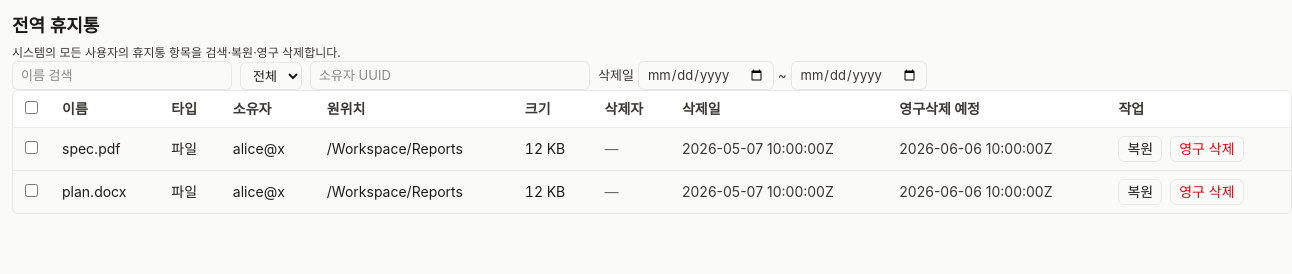
/admin/trash/all › 체크박스 다중 선택 시 BulkActionBar 노출
#  행 1개 선택
What coordinates should you click on to do the following:
click the checkbox named "spec.pdf 선택"
I would click on:
 (32, 148)
Its box is [25, 141, 38, 154].
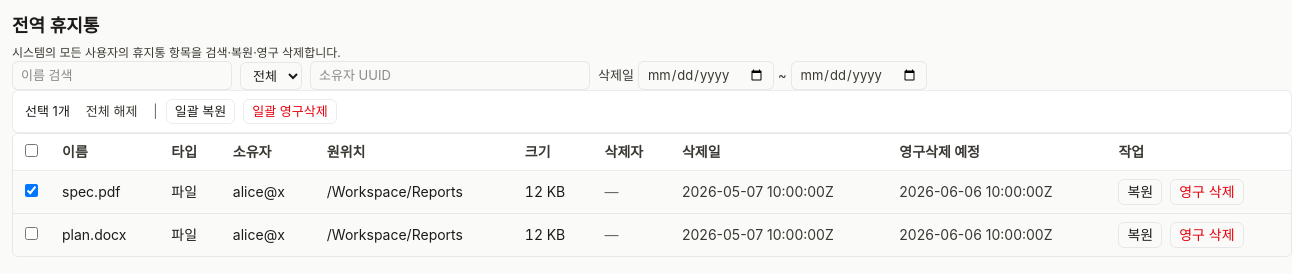
Result: the element named "일괄 작업" is shown at [12, 90, 1291, 133]
Result: the text with test id "admin-trash-bulk-count" shows "1개" at [25, 102, 70, 121]
#  또 1개 선택
What coordinates should you click on to do the following:
click the checkbox named "plan.docx 선택"
I would click on:
 (32, 234)
Its box is [25, 227, 38, 240].
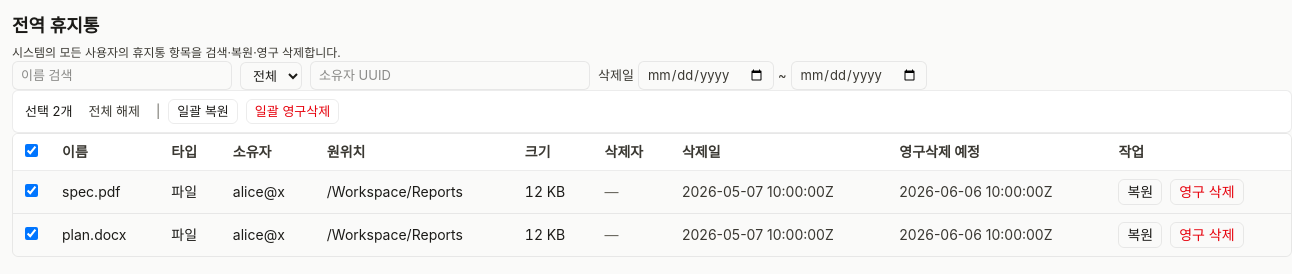
Result: the text with test id "admin-trash-bulk-count" shows "2개" at [25, 102, 72, 121]
